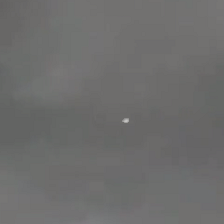Target: (123, 118, 130, 123)
